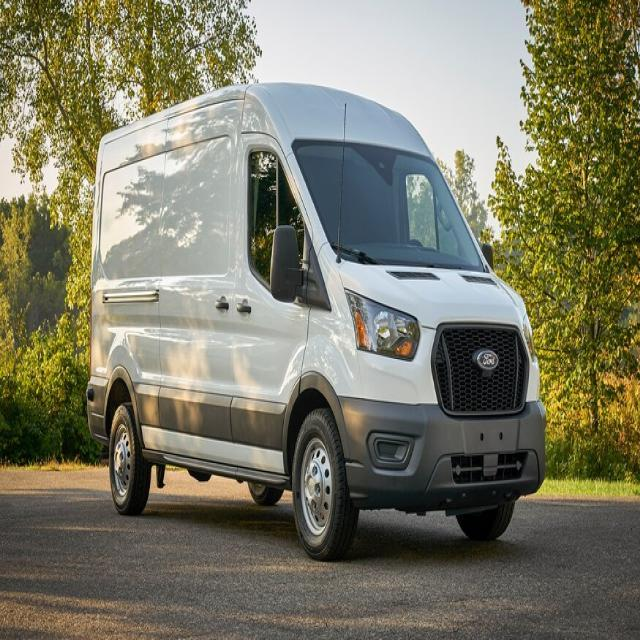truck: (85, 79, 548, 562)
